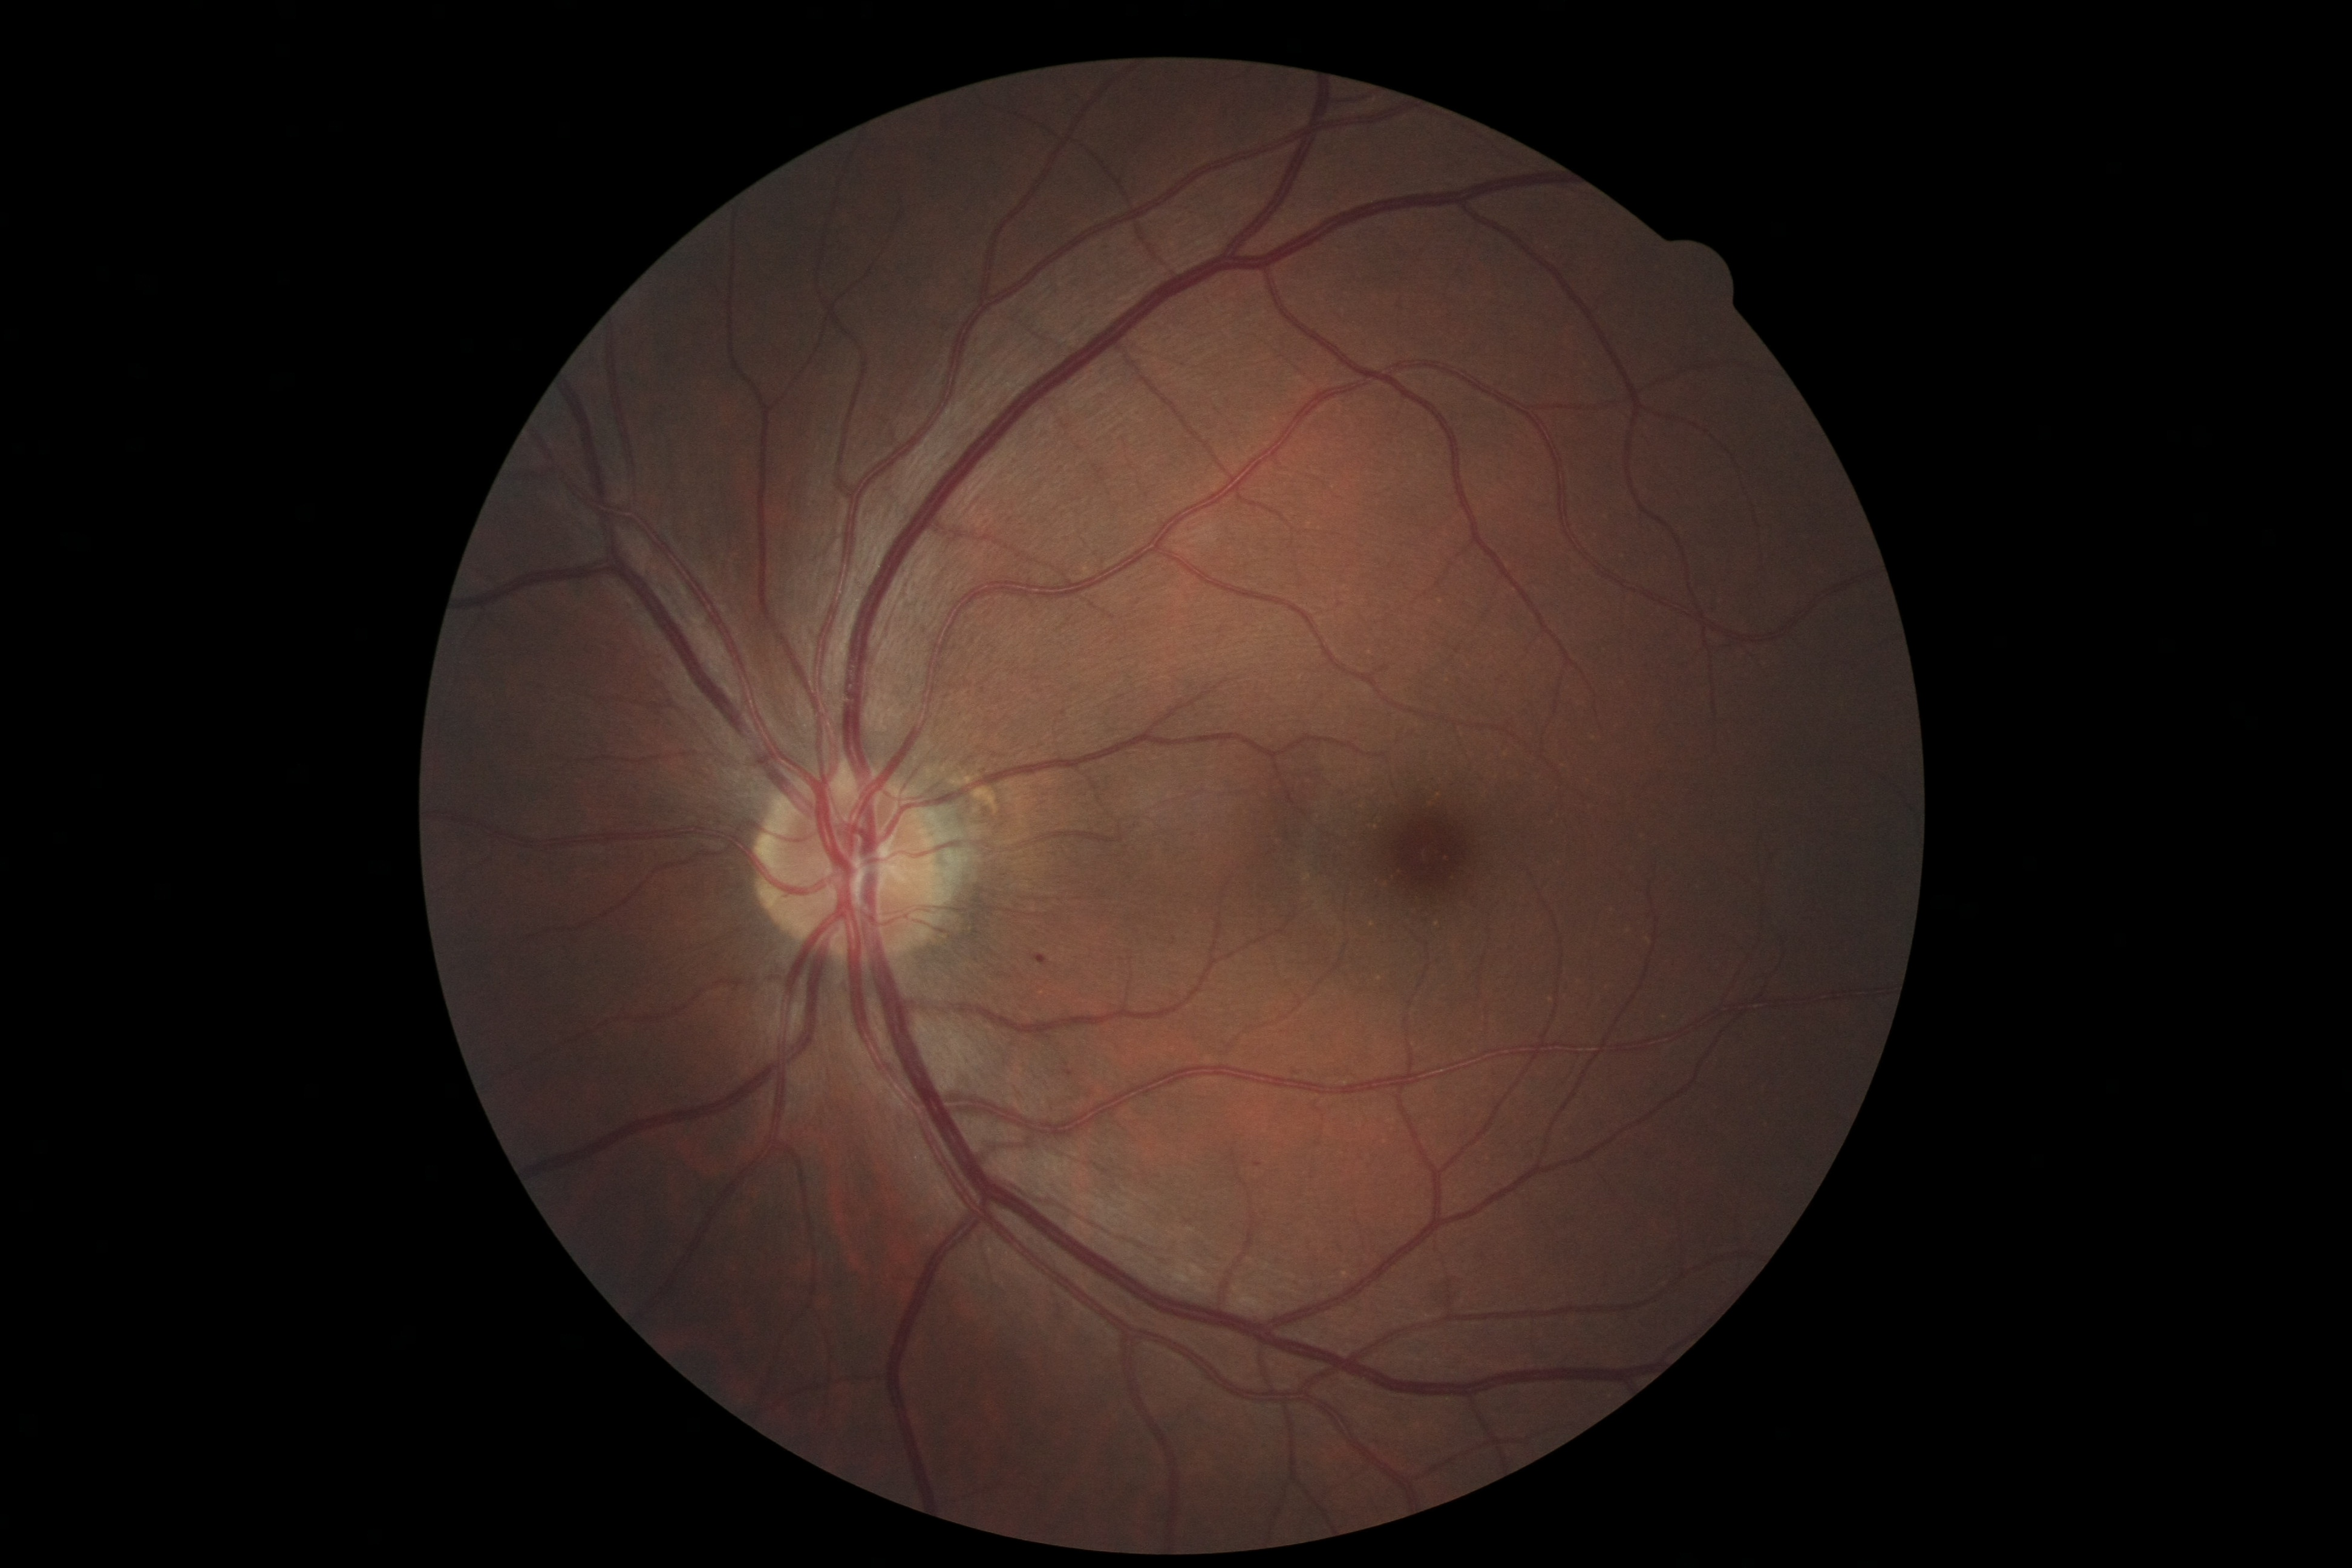Fovea: (1347, 777, 1503, 943)
OD: (737, 747, 983, 971)
